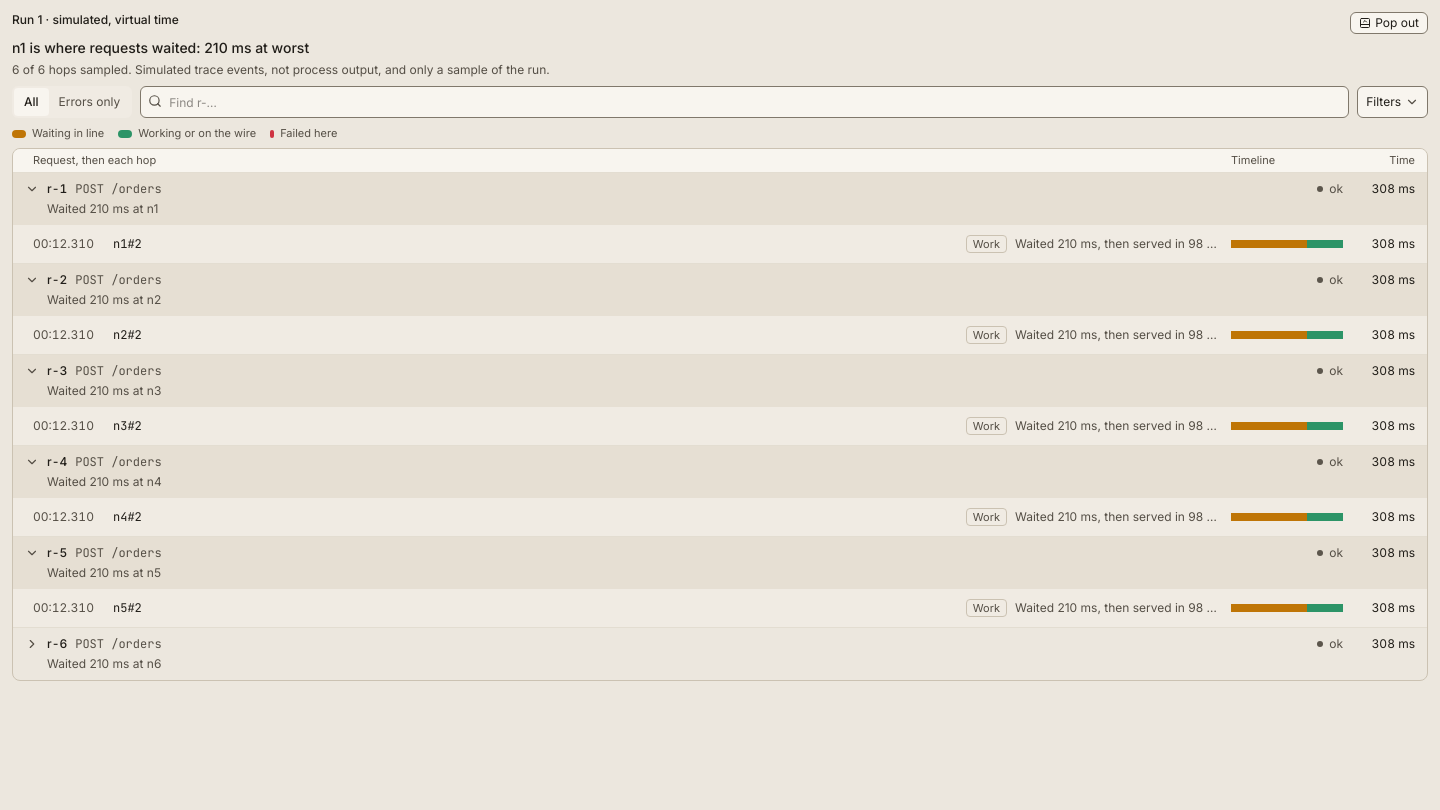
a_request_block_opens_and_closes_from_its_header_and_the_first_few_start_open
Expected: the text "r-1" is shown, [47,179,67,199]
Expected: the text "n6#2" is not shown
Click the button "r-6 POST /orders Waited 210 ms at n6 ok 308 ms".
click(118, 644)  # box [13,628,1427,680]
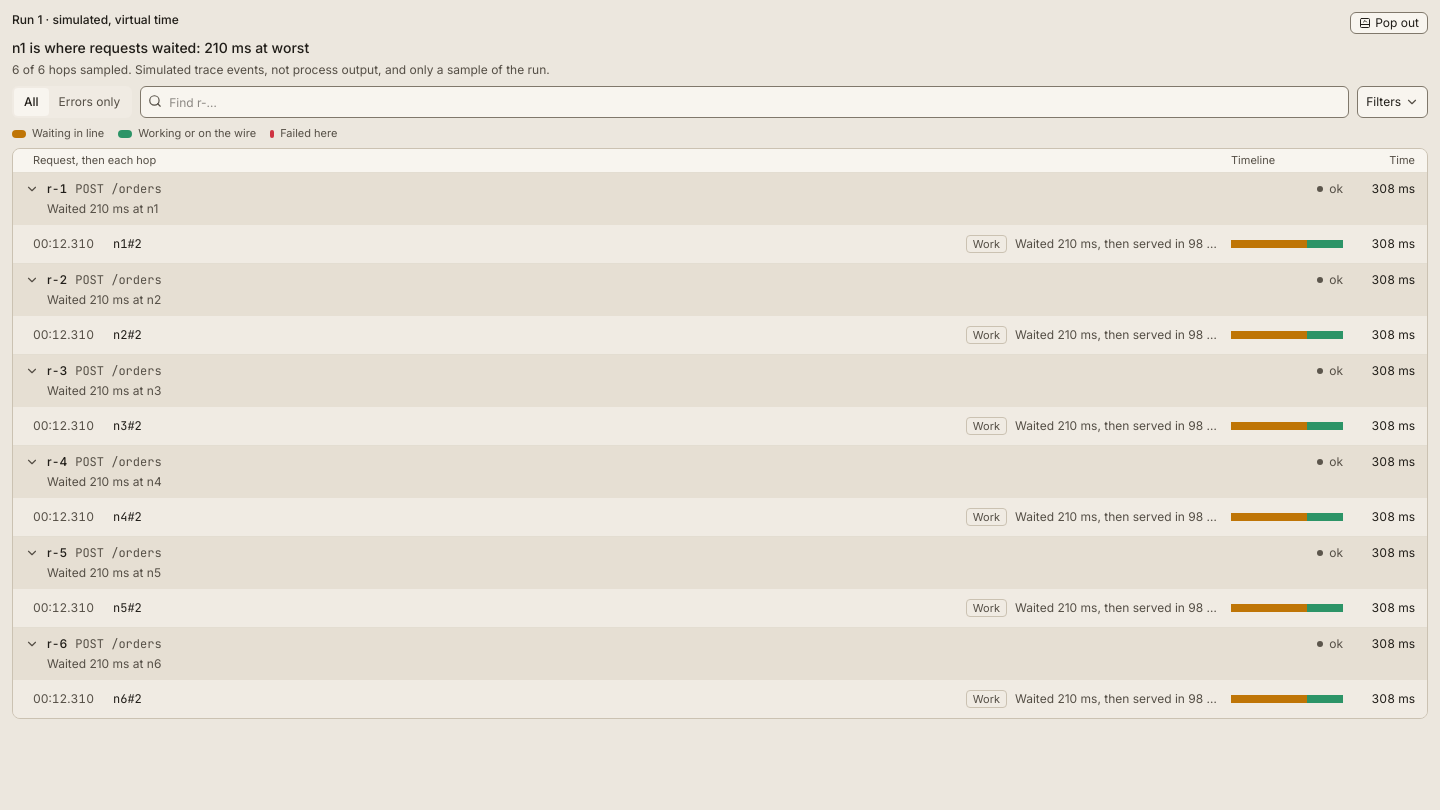
Now the text "n6#2" is shown, box [113,691,142,707]
Click the button "r-1 POST /orders Waited 210 ms at n1 ok 308 ms".
click(118, 189)  # box [13,173,1427,225]
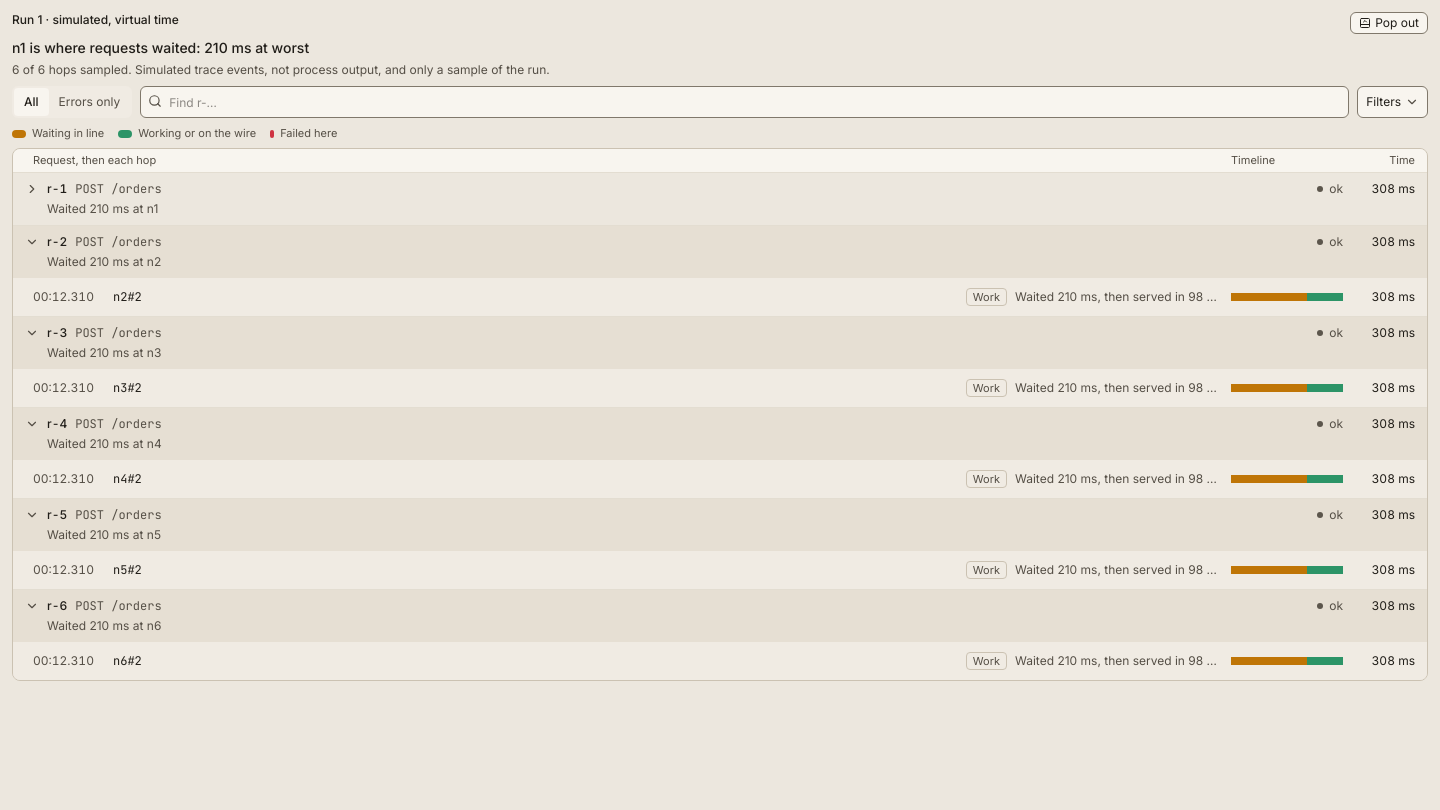
Now the text "n1#2" is gone
